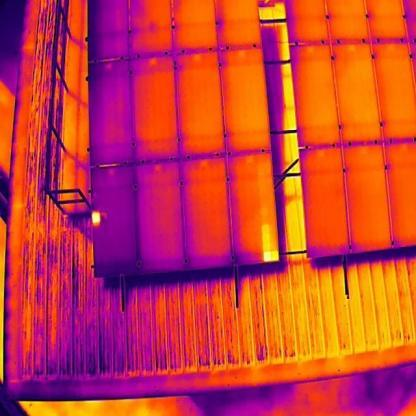anomaly: (258, 220, 280, 263), (90, 205, 105, 229)
